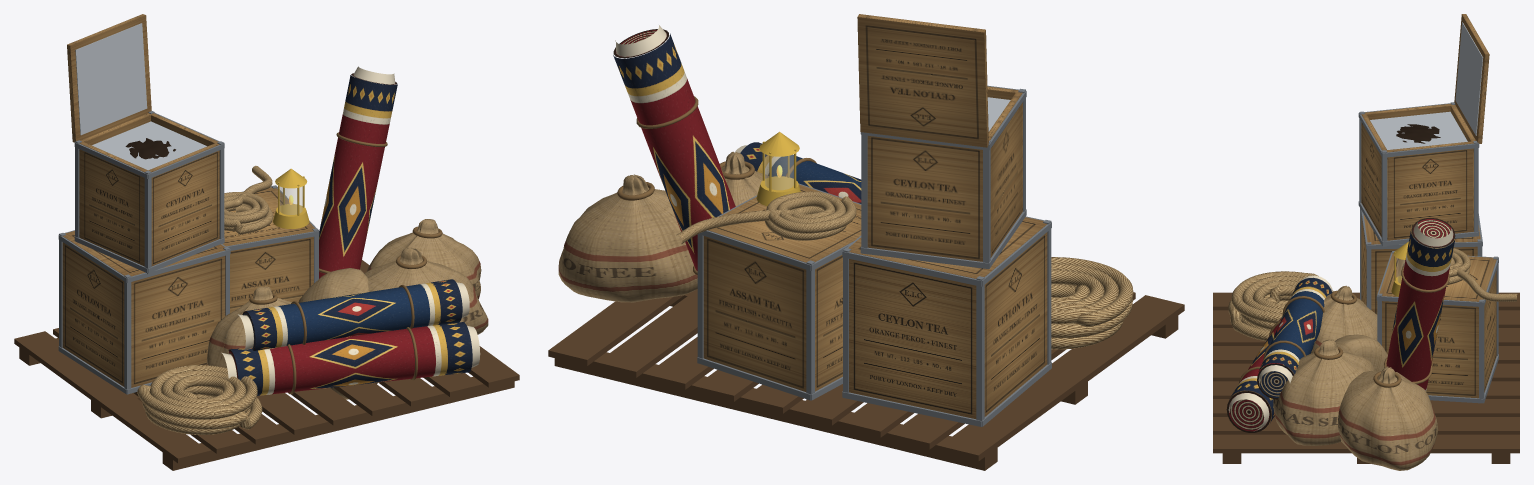
Rendered from colonial_cargo_goods.glb.
3 views of the same model, side by side, from view 1: azimuth 30°, elevation 25°; view 2: azimuth 150°, elevation 25°; view 3: azimuth 270°, elevation 25° (orthographic). The views are drawn at different scales.
Visible parts, largest first — view 1: Rolled_Trade_Carpet (×3), Openable_Tea_Chest, Stenciled_Tea_Chest (×2), Wooden_Shipping_Pallet, Burlap_Trade_Sack (×4), Coiled_Hemp_Rope (×2), Brass_Wharf_Lantern; view 2: Stenciled_Tea_Chest (×2), Openable_Tea_Chest, Wooden_Shipping_Pallet, Rolled_Trade_Carpet (×2), Burlap_Trade_Sack (×2), Coiled_Hemp_Rope (×2), Brass_Wharf_Lantern; view 3: Openable_Tea_Chest, Burlap_Trade_Sack (×4), Rolled_Trade_Carpet (×3), Wooden_Shipping_Pallet, Stenciled_Tea_Chest (×2), Coiled_Hemp_Rope (×2), Brass_Wharf_Lantern.
Boxes of the visible parts, left/top/right/bottom form: Rolled_Trade_Carpet (×3): left=221, top=66, right=480, bottom=395; Openable_Tea_Chest: left=67, top=14, right=224, bottom=273; Stenciled_Tea_Chest (×2): left=58, top=185, right=319, bottom=394; Wooden_Shipping_Pallet: left=14, top=260, right=519, bottom=470; Burlap_Trade_Sack (×4): left=207, top=219, right=488, bottom=399; Coiled_Hemp_Rope (×2): left=137, top=165, right=273, bottom=434; Brass_Wharf_Lantern: left=273, top=168, right=309, bottom=228; Stenciled_Tea_Chest (×2): left=697, top=183, right=1051, bottom=426; Openable_Tea_Chest: left=857, top=14, right=1026, bottom=268; Wooden_Shipping_Pallet: left=548, top=289, right=1184, bottom=470; Rolled_Trade_Carpet (×2): left=613, top=25, right=861, bottom=275; Burlap_Trade_Sack (×2): left=558, top=151, right=769, bottom=302; Coiled_Hemp_Rope (×2): left=676, top=191, right=1133, bottom=349; Brass_Wharf_Lantern: left=756, top=131, right=800, bottom=206; Openable_Tea_Chest: left=1358, top=14, right=1489, bottom=246; Burlap_Trade_Sack (×4): left=1273, top=285, right=1438, bottom=470; Rolled_Trade_Carpet (×3): left=1226, top=218, right=1455, bottom=432; Wooden_Shipping_Pallet: left=1213, top=292, right=1519, bottom=463; Stenciled_Tea_Chest (×2): left=1360, top=208, right=1498, bottom=403; Coiled_Hemp_Rope (×2): left=1228, top=246, right=1517, bottom=341; Brass_Wharf_Lantern: left=1391, top=241, right=1408, bottom=296.
Bounding box in the file's own units: 2.04 × 1.78 × 1.46.
19 materials, 10 textured.
